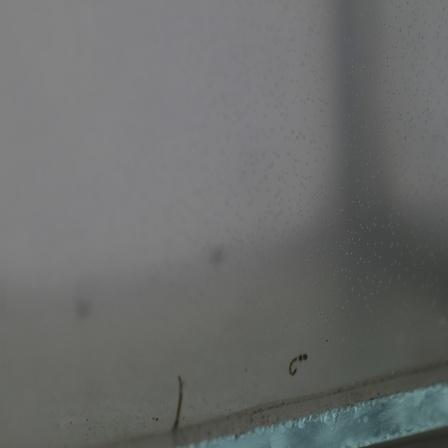Jentik-Nyamuk: (163, 374, 187, 431), (287, 349, 315, 379)
